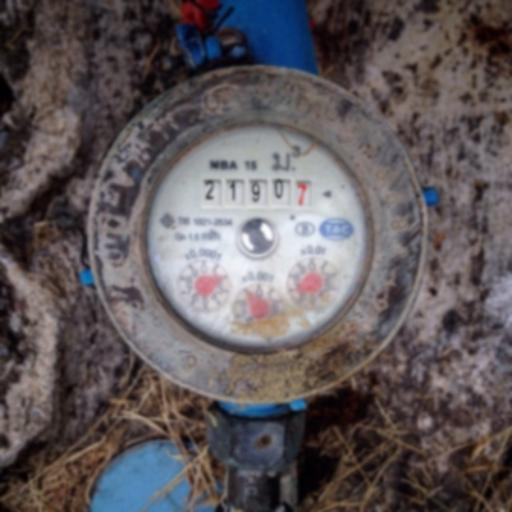0: (273, 181, 291, 205)
1: (227, 181, 245, 205)
2: (203, 181, 221, 205)
7: (297, 181, 312, 205)
9: (250, 179, 265, 203)
border_water_meter_number: (196, 175, 319, 211)
